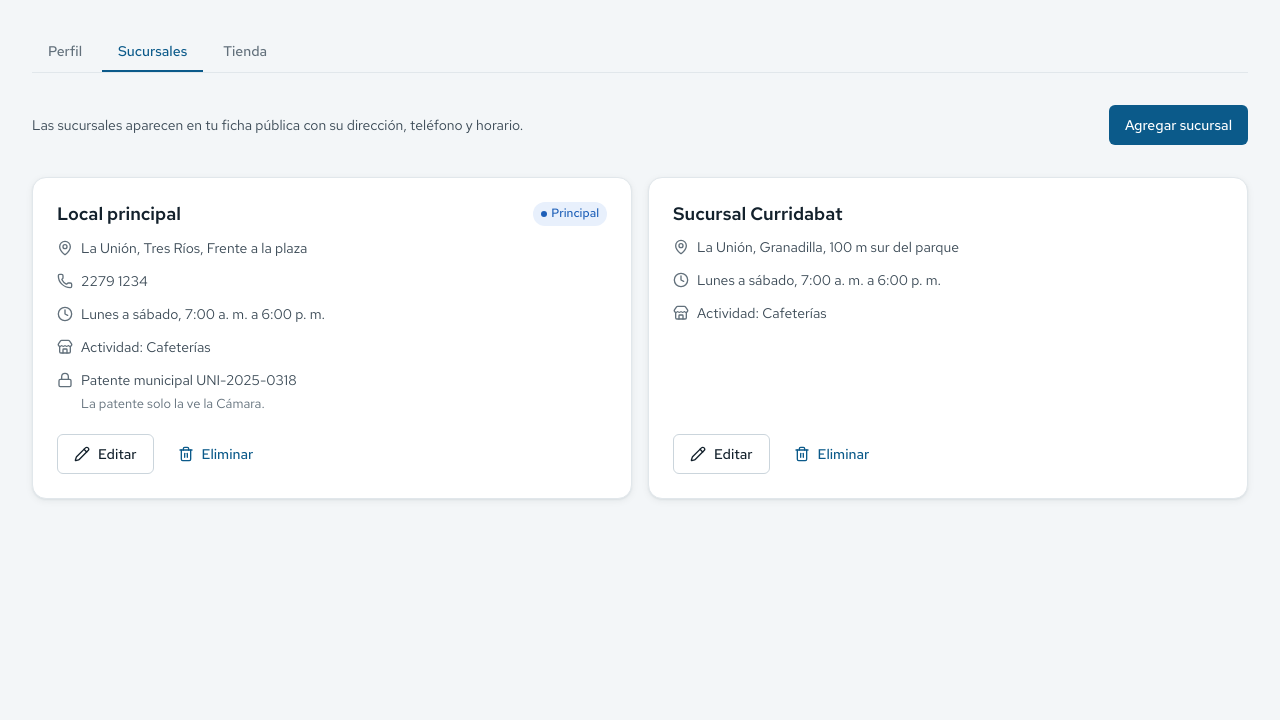
Test: the branches screen › closes a branch when there is another one left
This screenshot has width=1280, height=720.
Expected: the heading "Sucursal Curridabat" is shown, [673, 202, 843, 225]
What coordinates should you click on to do the following:
click the button "Eliminar" below "Sucursal Curridabat"
I would click on:
 (831, 454)
Its box is [778, 434, 885, 474].
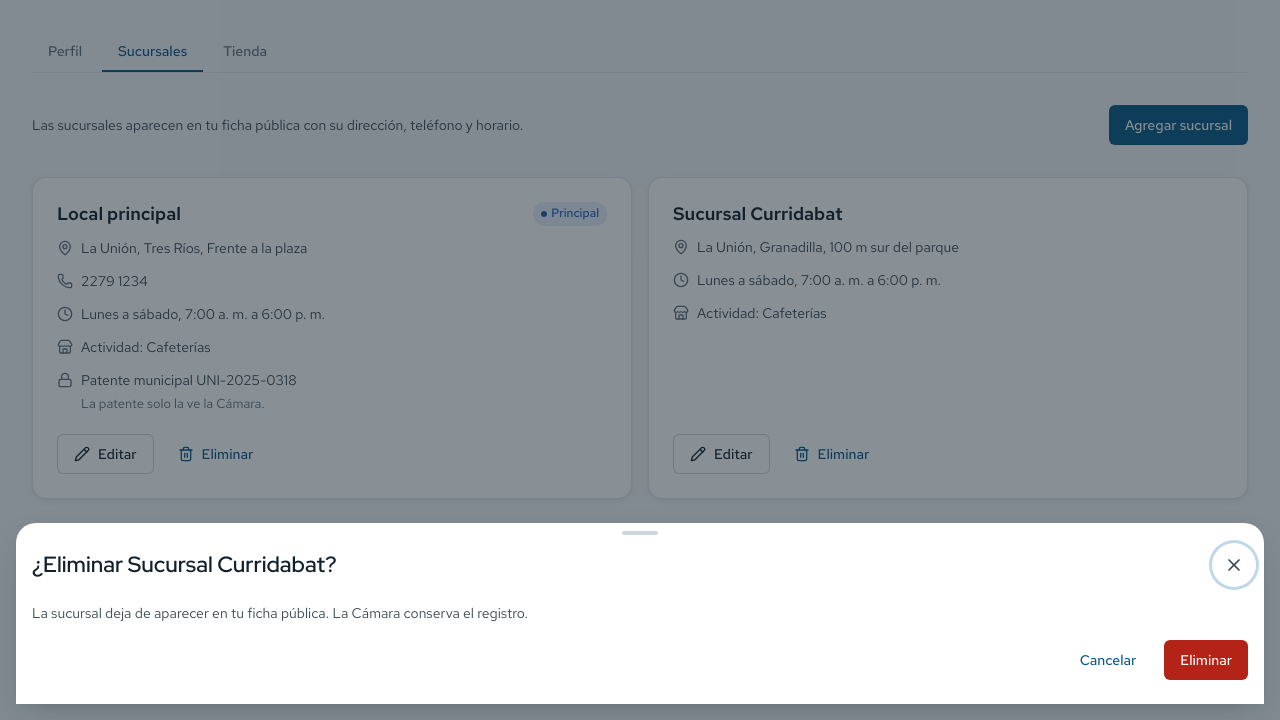
What coordinates should you click on to do the following:
click the button "Eliminar"
I would click on:
 (1206, 660)
Its box is [1164, 640, 1248, 680].
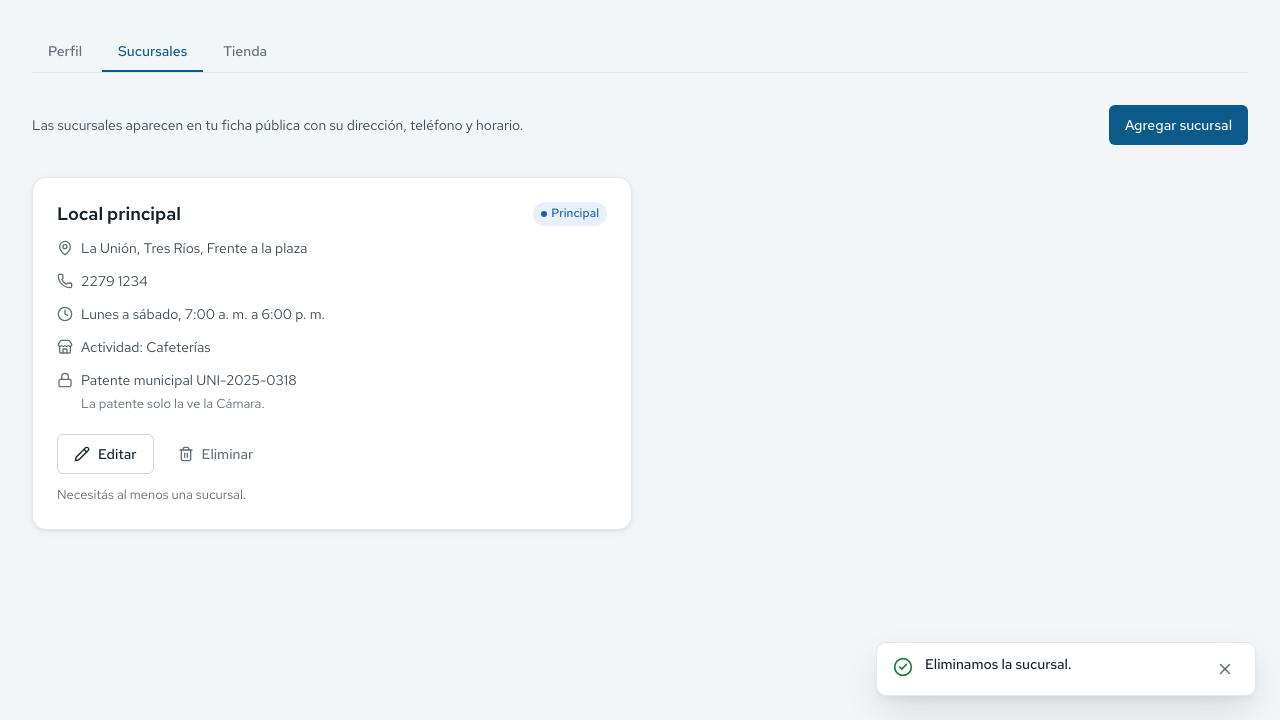
Expected: the heading "Sucursal Curridabat" is gone
